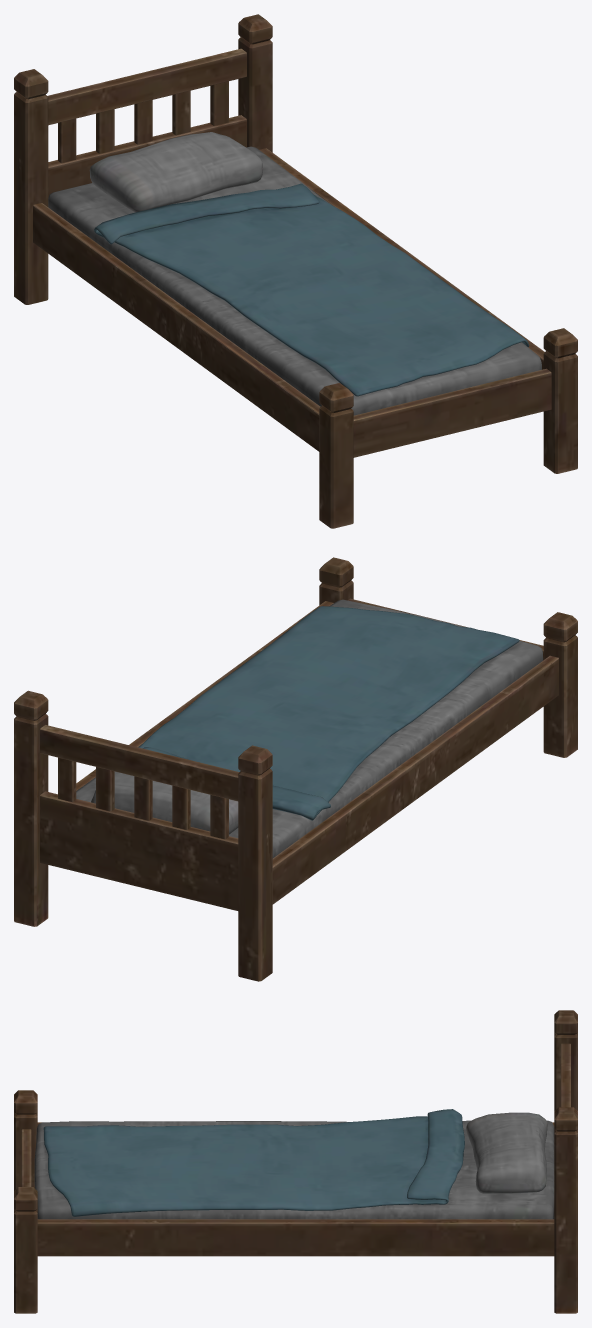
Rendered from cama.glb.
3 renders of one model, top to bottom at view 1: azimuth 30°, elevation 25°; view 2: azimuth 150°, elevation 25°; view 3: azimuth 270°, elevation 25°, orthographic. The views are drawn at different scales.
Visible parts, largest first — view 1: Bed; view 2: Bed; view 3: Bed.
Boxes of the visible parts, x1=… form: Bed: x1=14, y1=14, x2=577, y2=528; Bed: x1=14, y1=557, x2=577, y2=981; Bed: x1=14, y1=1010, x2=577, y2=1313.
Bounding box in the file's own units: 0.7864 × 0.6819 × 1.76.
Materials: 1 (1 with a texture image).
